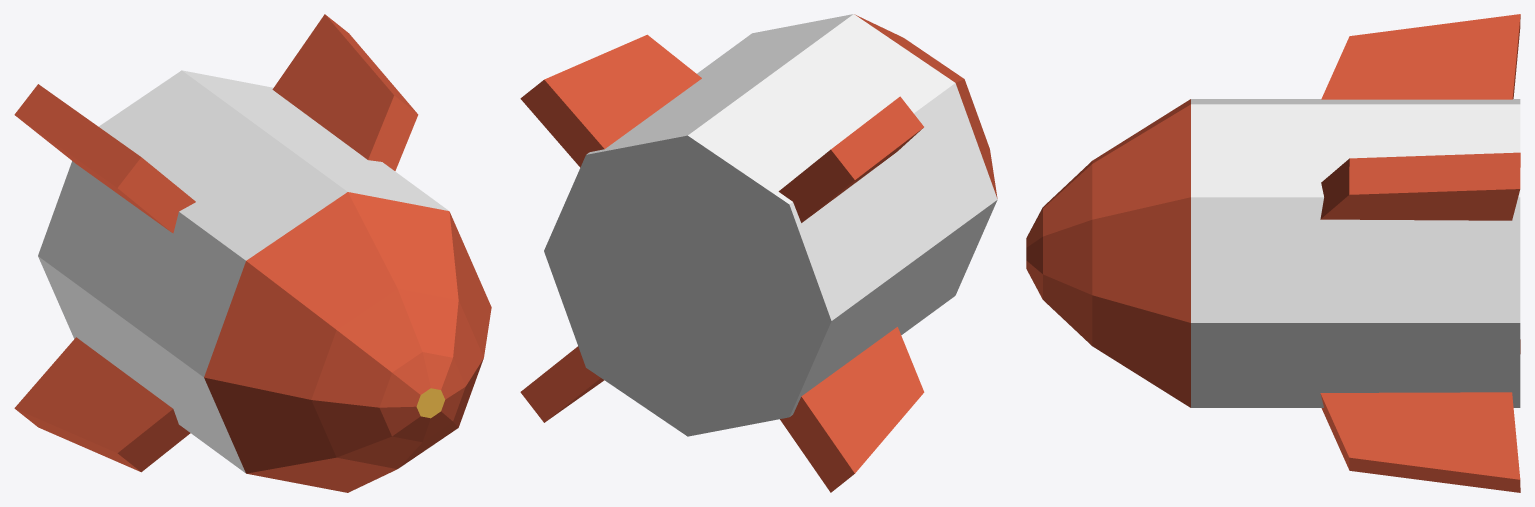
The model's file is rocket.glb.
3 views of the same model, side by side, from view 1: azimuth 30°, elevation 25°; view 2: azimuth 150°, elevation 25°; view 3: azimuth 270°, elevation 25° (orthographic).
Parts seen in each view (by area): view 1: mesh; view 2: mesh; view 3: mesh.
Part boxes in pixels (x1,y1,x2,y2): mesh: (14, 14, 491, 492); mesh: (520, 14, 997, 492); mesh: (1026, 14, 1520, 492).
Bounding box in the file's own units: 0.349 × 0.3423 × 0.4504.
1 material, 1 textured.
